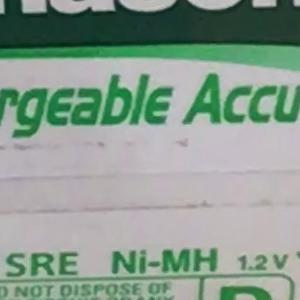NI-MH: (103, 240, 216, 283)
